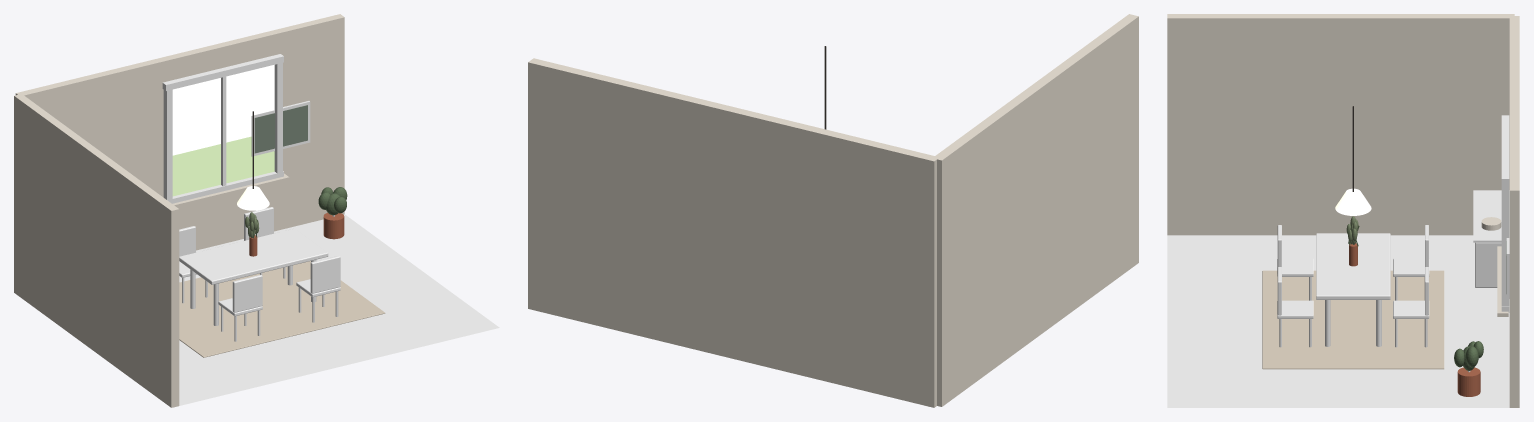
File: dining-corner.glb
The picture shows the model from 3 angles, left to right: view 1: azimuth 30°, elevation 25°; view 2: azimuth 150°, elevation 25°; view 3: azimuth 270°, elevation 25°; orthographic projection. The views are drawn at different scales.
Visible parts, largest first — view 1: Side wall, Back wall, Floor, Dining rug, Window sky, Table top, Window outside, Art canvas, Window frame top, Window frame side, Chair back 0, Chair back 1 (+9 smaller); view 2: Back wall, Side wall; view 3: Side wall, Floor, Dining rug, Table top, Back wall, Sideboard top, Sideboard, Window frame side.001, Pendant shade, Plant pot, Chair seat 1, Chair seat 3 (+4 smaller).
Part boxes in pixels (<box>): Side wall: <box>14,94,179,407</box>; Back wall: <box>15,14,344,250</box>; Floor: <box>179,214,499,405</box>; Dining rug: <box>179,261,385,357</box>; Window sky: <box>172,64,274,155</box>; Table top: <box>179,228,328,284</box>; Window outside: <box>172,136,274,196</box>; Art canvas: <box>254,105,307,153</box>; Window frame top: <box>162,54,283,90</box>; Window frame side: <box>163,81,172,200</box>; Chair back 0: <box>232,274,262,312</box>; Chair back 1: <box>310,255,340,293</box>; Back wall: <box>528,58,939,407</box>; Side wall: <box>932,14,1138,406</box>; Side wall: <box>1167,14,1514,235</box>; Floor: <box>1167,235,1509,407</box>; Dining rug: <box>1262,270,1444,369</box>; Table top: <box>1316,233,1390,299</box>; Back wall: <box>1509,16,1519,407</box>; Sideboard top: <box>1473,190,1509,242</box>; Sideboard: <box>1475,242,1501,287</box>; Window frame side.001: <box>1501,175,1509,305</box>; Pendant shade: <box>1335,188,1371,215</box>; Plant pot: <box>1457,367,1480,396</box>; Chair seat 1: <box>1277,300,1313,318</box>; Chair seat 3: <box>1393,300,1429,318</box>.
Bounding box in the file's own units: 5.06 × 2.9 × 4.26.
